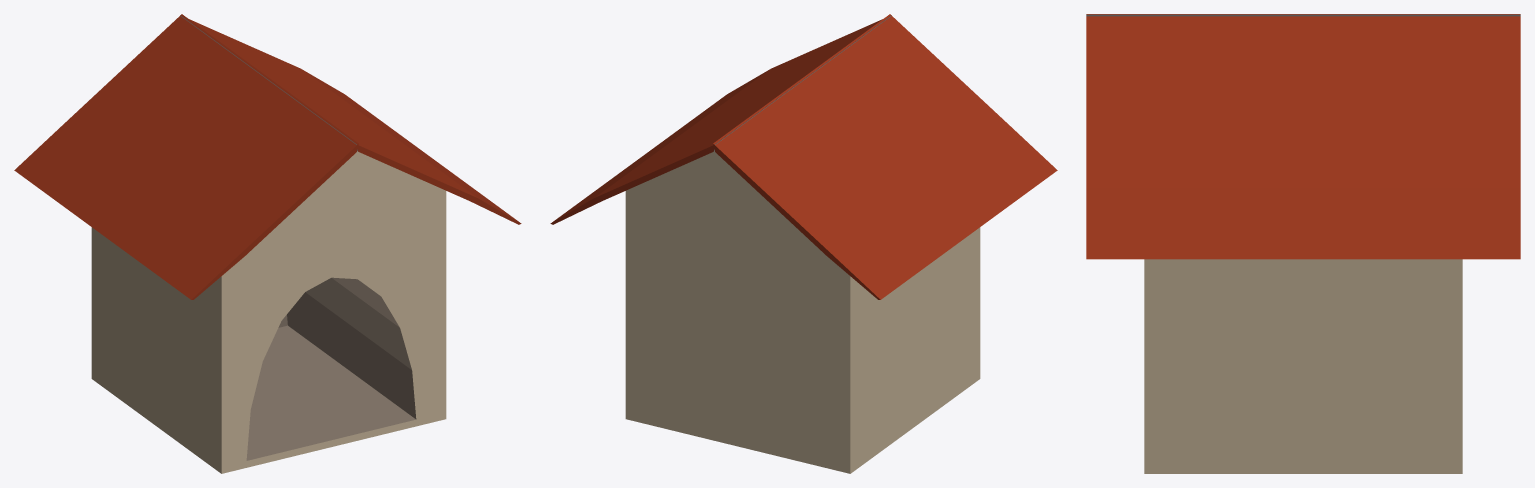
The model's file is köpekKlübü.fbx.
The picture shows the model from 3 angles, left to right: view 1: azimuth 30°, elevation 25°; view 2: azimuth 150°, elevation 25°; view 3: azimuth 270°, elevation 25°; orthographic projection. The views are drawn at different scales.
Visible parts, largest first — view 1: pCube2; view 2: pCube2; view 3: pCube2.
Part boxes in pixels (left/top/right/bottom): pCube2: left=14, top=14, right=521, bottom=473; pCube2: left=550, top=14, right=1057, bottom=473; pCube2: left=1086, top=14, right=1520, bottom=473.
Size of the model in its own units: 2.94 by 2.72 by 2.73.
